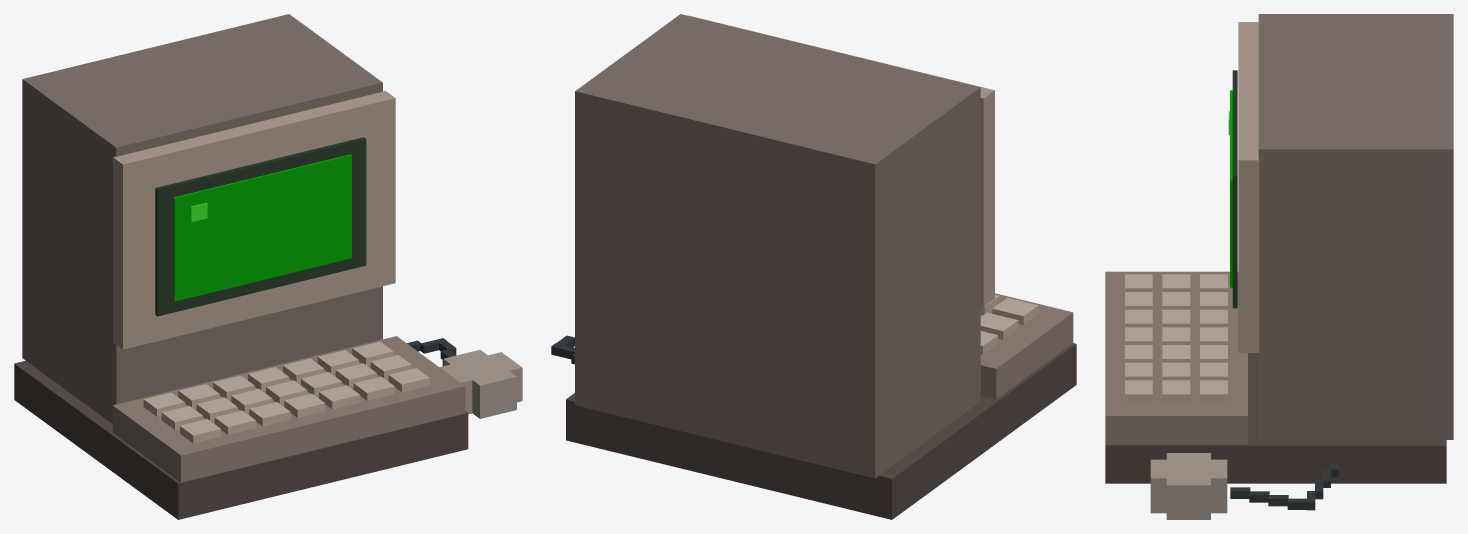
File: CMU3DPersonalDesktop.glb
3 views of the same model, side by side, from view 1: azimuth 30°, elevation 25°; view 2: azimuth 150°, elevation 25°; view 3: azimuth 270°, elevation 25° (orthographic). The views are drawn at different scales.
Parts seen in each view (by area): view 1: monitor body, monitor bezel, green CRT screen, desktop computer base, keyboard deck, keyboard key (×21), screen recess, wired mouse; view 2: monitor body, desktop computer base, keyboard deck, monitor bezel, keyboard key (×2); view 3: monitor body, keyboard deck, desktop computer base, keyboard key (×21), monitor bezel, wired mouse (×2), screen recess, green CRT screen.
Boxes of the visible parts, x1,y1,x2,y2 form: monitor body: [22, 14, 382, 423]; monitor bezel: [113, 91, 395, 349]; green CRT screen: [173, 154, 351, 301]; desktop computer base: [14, 360, 468, 519]; keyboard deck: [112, 336, 465, 482]; keyboard key (×21): [143, 341, 429, 443]; screen recess: [155, 137, 366, 316]; wired mouse: [443, 349, 516, 418]; monitor body: [575, 14, 980, 478]; desktop computer base: [566, 343, 1076, 519]; keyboard deck: [980, 293, 1073, 399]; monitor bezel: [688, 15, 994, 306]; keyboard key (×2): [980, 297, 1038, 339]; monitor body: [1258, 14, 1453, 439]; keyboard deck: [1105, 271, 1247, 444]; desktop computer base: [1105, 353, 1446, 483]; keyboard key (×21): [1125, 274, 1227, 402]; monitor bezel: [1238, 22, 1259, 352]; wired mouse (×2): [1150, 459, 1227, 519]; screen recess: [1232, 70, 1237, 308]; green CRT screen: [1230, 90, 1232, 287].
Bounding box in the file's own units: 0.645 × 0.52 × 0.5.
